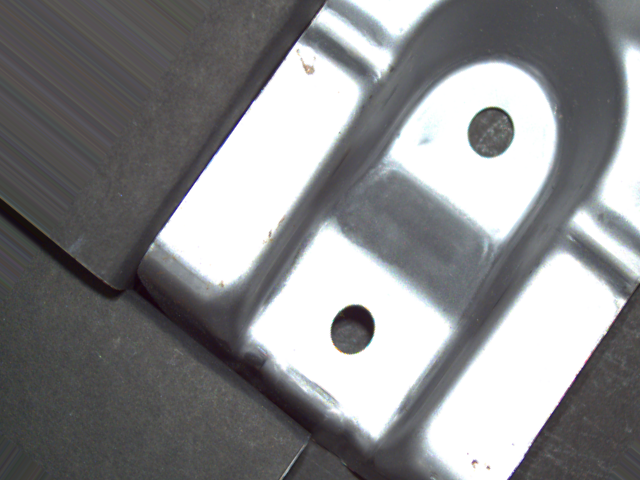defect: (458, 100, 518, 166)
